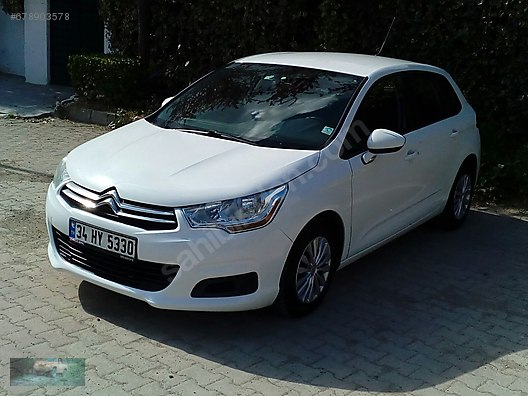citroen: (37, 36, 487, 333)
